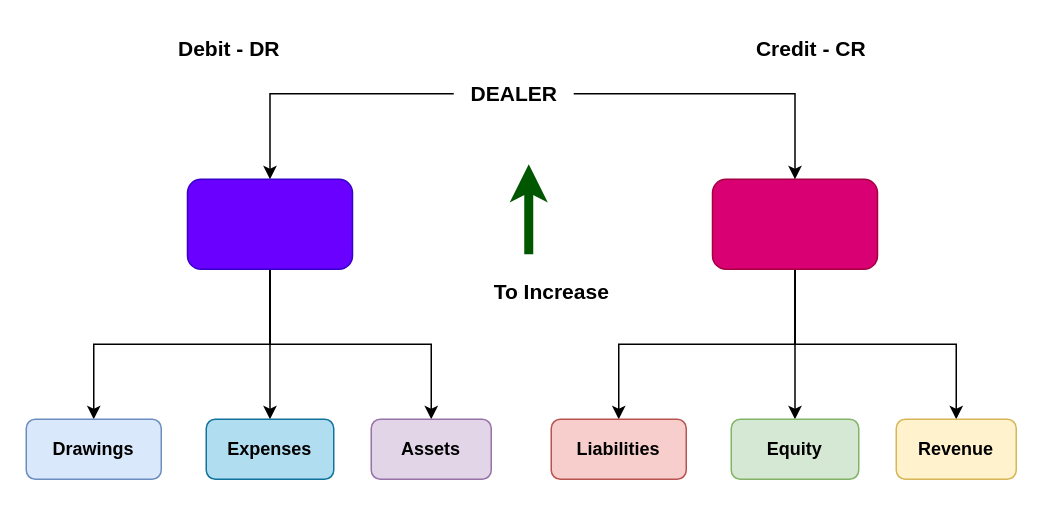
The diagram is 1043 pixels wide and 506 high, and some of its shapes have lost their labels. The centre of each missing label's shape, as x and y in pixels:
"DEA" belongs at point (269, 223).
"LER" belongs at point (794, 223).
